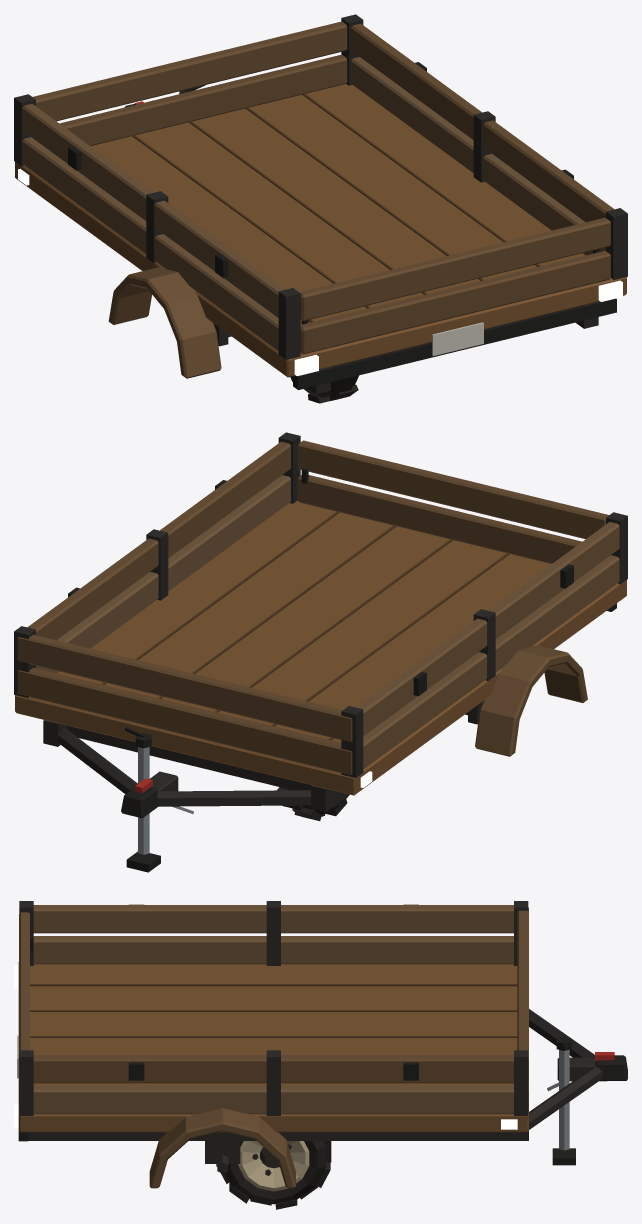
Rendered from PonyTrailer_Flatbed.glb.
3 views of the same model, one above another, from view 1: azimuth 30°, elevation 25°; view 2: azimuth 150°, elevation 25°; view 3: azimuth 270°, elevation 25° (orthographic). The views are drawn at different scales.
Visible parts, largest first — view 1: Bed, Body, Lights, Wheel; view 2: Bed, Body, Hitch, Wheel; view 3: Bed, Body, Hitch, Wheel.
Part boxes in pixels (x1=…): Bed: x1=14, y1=14, x2=627, y2=377; Body: x1=108, y1=267, x2=616, y2=394; Lights: x1=18, y1=168, x2=622, y2=376; Wheel: x1=290, y1=375, x2=358, y2=403; Bed: x1=14, y1=432, x2=627, y2=795; Body: x1=43, y1=603, x2=616, y2=812; Hitch: x1=58, y1=727, x2=310, y2=872; Wheel: x1=277, y1=787, x2=349, y2=821; Bed: x1=18, y1=901, x2=528, y2=1132; Body: x1=17, y1=1035, x2=528, y2=1188; Hitch: x1=529, y1=1009, x2=627, y2=1165; Wheel: x1=216, y1=1141, x2=331, y2=1209.
Bounding box in the file's own units: 11.09 × 6.31 × 15.64.
